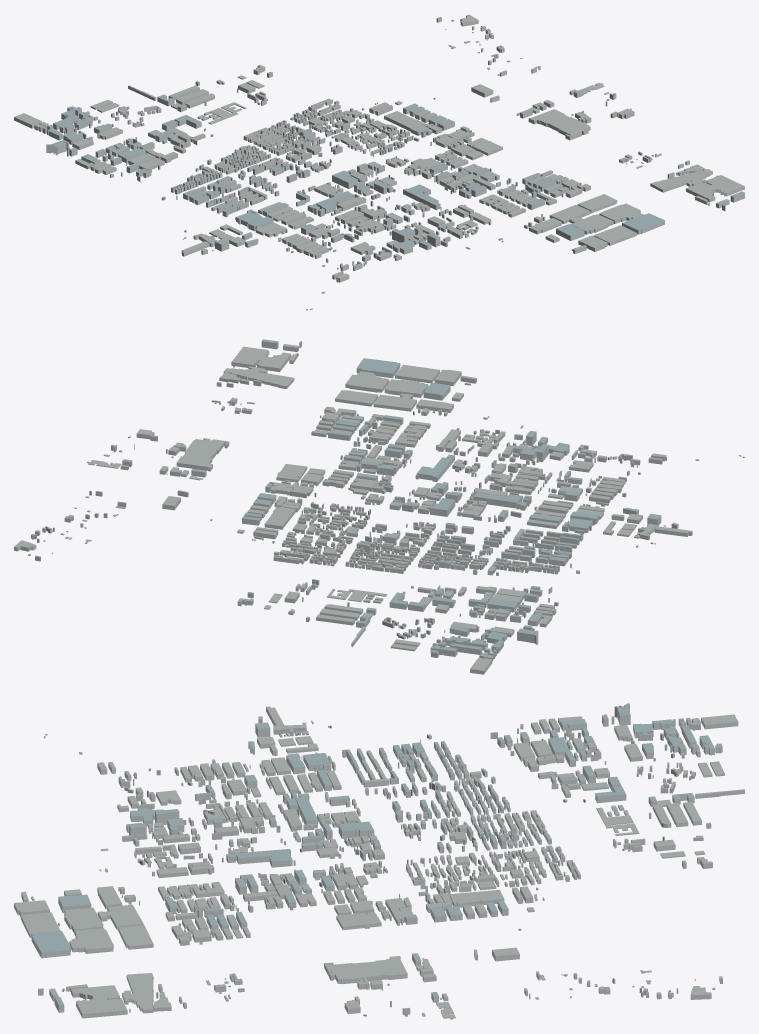
Rendered from far.glb.
3 renders of one model, top to bottom at view 1: azimuth 30°, elevation 25°; view 2: azimuth 150°, elevation 25°; view 3: azimuth 270°, elevation 25°, orthographic. The views are drawn at different scales.
Size of the model in its own units: 2183 by 41.31 by 2184.
